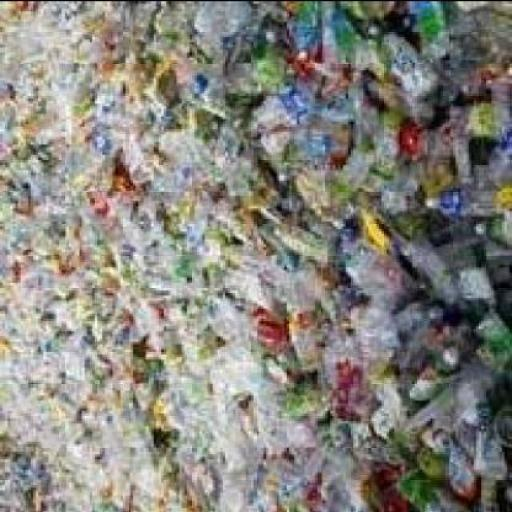plastic: (0, 2, 511, 511), (0, 379, 183, 510), (0, 287, 150, 384), (0, 210, 95, 290), (415, 356, 486, 455), (38, 243, 112, 335), (414, 226, 494, 304), (440, 6, 510, 92), (379, 31, 438, 130), (3, 138, 84, 210), (187, 2, 282, 56), (248, 446, 324, 510), (312, 430, 371, 512), (264, 123, 350, 179), (266, 412, 330, 484), (192, 346, 268, 404), (292, 159, 358, 225), (202, 251, 272, 313), (246, 351, 292, 443), (346, 251, 412, 313), (451, 353, 507, 422), (182, 54, 238, 123), (394, 310, 456, 371), (420, 176, 510, 218), (243, 76, 312, 130), (184, 180, 231, 258), (317, 2, 366, 76), (243, 15, 290, 92), (314, 317, 364, 389), (113, 225, 169, 289), (3, 87, 59, 148), (171, 446, 224, 510), (356, 113, 400, 189), (310, 76, 376, 126), (143, 2, 187, 76), (146, 133, 195, 199), (399, 352, 461, 404), (166, 235, 228, 287), (187, 294, 251, 344), (276, 369, 333, 425), (218, 428, 256, 511), (279, 2, 323, 72), (156, 176, 207, 236), (115, 126, 162, 190), (325, 186, 379, 240), (402, 2, 448, 64), (274, 251, 320, 313), (376, 161, 425, 218), (95, 197, 146, 251), (84, 117, 144, 162), (154, 343, 202, 399), (335, 369, 379, 430), (7, 38, 52, 97), (59, 3, 110, 54), (46, 97, 103, 141), (253, 220, 302, 271), (399, 115, 451, 162), (390, 208, 428, 272), (76, 164, 128, 210), (270, 206, 318, 254), (281, 310, 326, 361), (245, 310, 290, 361), (107, 2, 161, 44), (204, 401, 254, 446), (176, 386, 208, 456), (376, 422, 420, 472), (472, 299, 510, 356), (468, 131, 510, 182), (46, 36, 97, 78), (358, 465, 404, 511), (177, 112, 212, 172), (92, 92, 134, 141), (212, 135, 248, 192), (438, 115, 470, 179), (133, 302, 189, 338), (51, 63, 95, 108), (232, 171, 274, 218), (443, 438, 476, 496), (343, 2, 399, 36), (396, 468, 440, 510), (335, 146, 371, 195), (474, 430, 507, 481), (141, 67, 174, 118), (462, 248, 510, 282), (92, 40, 126, 88), (28, 2, 64, 47), (117, 46, 146, 100), (142, 328, 184, 364), (489, 72, 509, 146), (356, 222, 391, 264), (0, 2, 33, 44), (154, 389, 184, 433), (356, 77, 378, 136), (392, 299, 422, 341), (476, 476, 511, 511), (456, 106, 486, 144), (113, 290, 164, 312), (1, 36, 20, 94), (448, 3, 510, 18), (472, 220, 510, 242), (487, 284, 509, 320), (364, 399, 383, 440), (492, 407, 509, 443)
